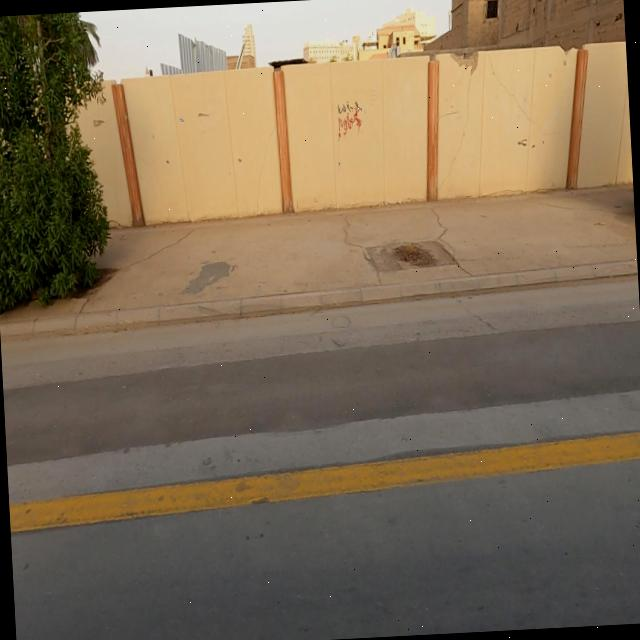Graffiti: (336, 99, 367, 144)
